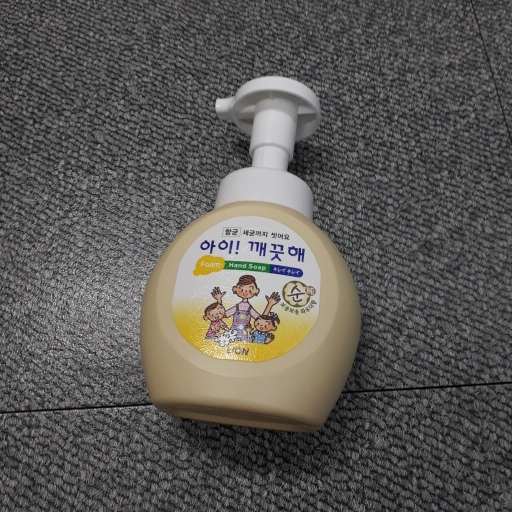Plastic_3: (136, 73, 364, 431)
